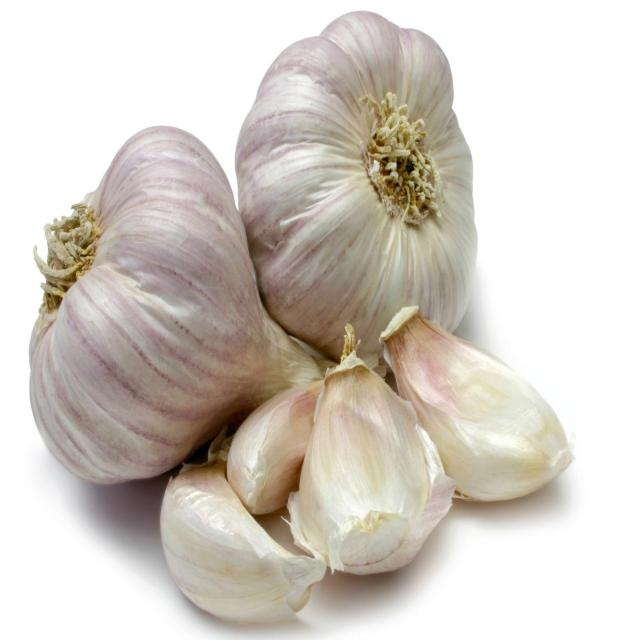garlic: (29, 126, 319, 482), (235, 11, 476, 357), (288, 324, 454, 573), (380, 306, 573, 500), (160, 460, 325, 621), (227, 379, 323, 513)
